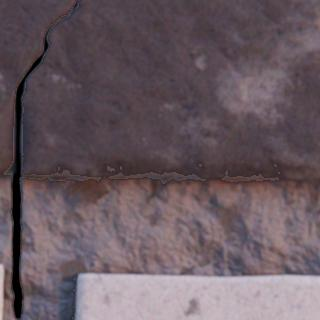brick: (75, 274, 319, 319), (0, 265, 3, 319)
broken_brick: (21, 0, 319, 183), (0, 0, 75, 170)
crack: (0, 0, 79, 319)
